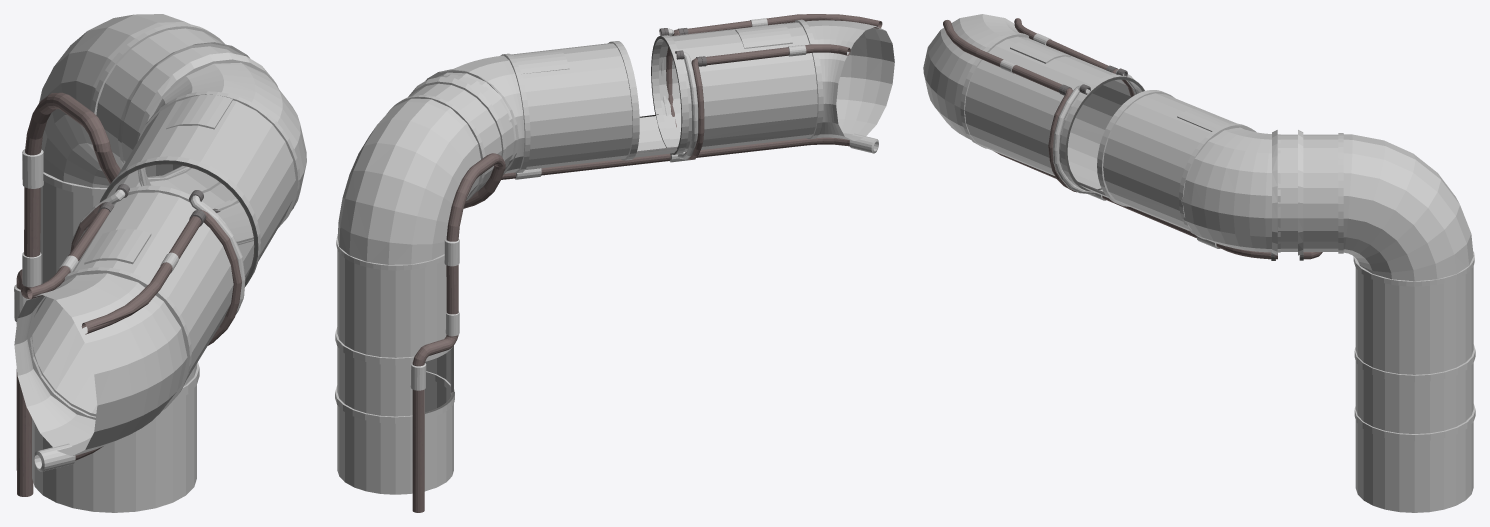
File: AreaJ_Pipe_Outside_Aa.fbx
3 renders of one model, left to right at view 1: azimuth 30°, elevation 25°; view 2: azimuth 150°, elevation 25°; view 3: azimuth 270°, elevation 25°, orthographic. The views are drawn at different scales.
Visible parts, largest first — view 1: SM_ENV_AMVLLG02_AreaJ_Pipe_Outside_Aa.mo; view 2: SM_ENV_AMVLLG02_AreaJ_Pipe_Outside_Aa.mo; view 3: SM_ENV_AMVLLG02_AreaJ_Pipe_Outside_Aa.mo.
Boxes of the visible parts, x1,y1,x2,y2 form: SM_ENV_AMVLLG02_AreaJ_Pipe_Outside_Aa.mo: (14,14,306,512); SM_ENV_AMVLLG02_AreaJ_Pipe_Outside_Aa.mo: (335,14,894,512); SM_ENV_AMVLLG02_AreaJ_Pipe_Outside_Aa.mo: (923,14,1475,512).
Bounding box in the file's own units: 5277 × 5759 × 7829.
